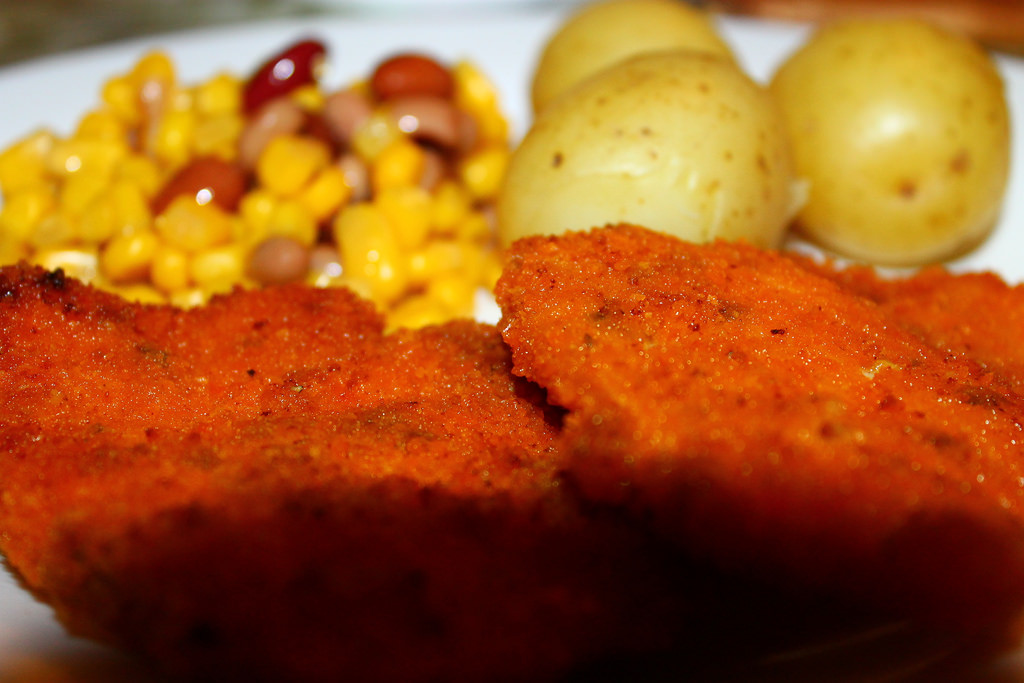boiled potatoes: (479, 6, 1010, 261), (491, 49, 807, 268), (771, 10, 1012, 264)
